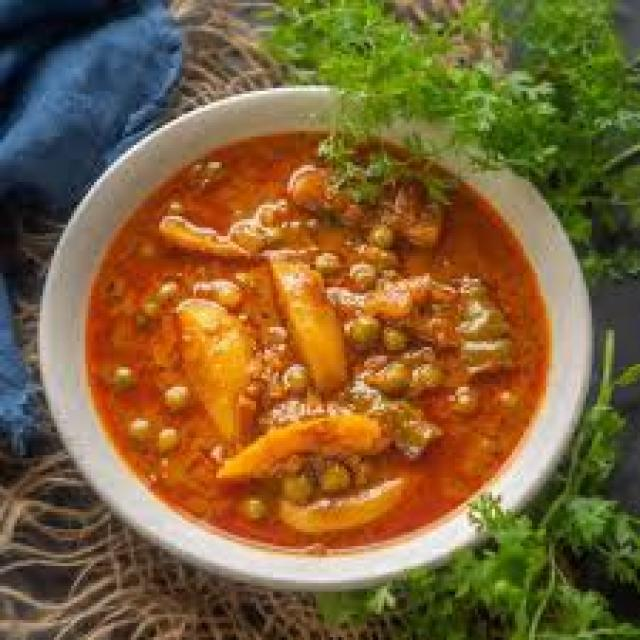aloo_matar: (103, 138, 605, 560)
